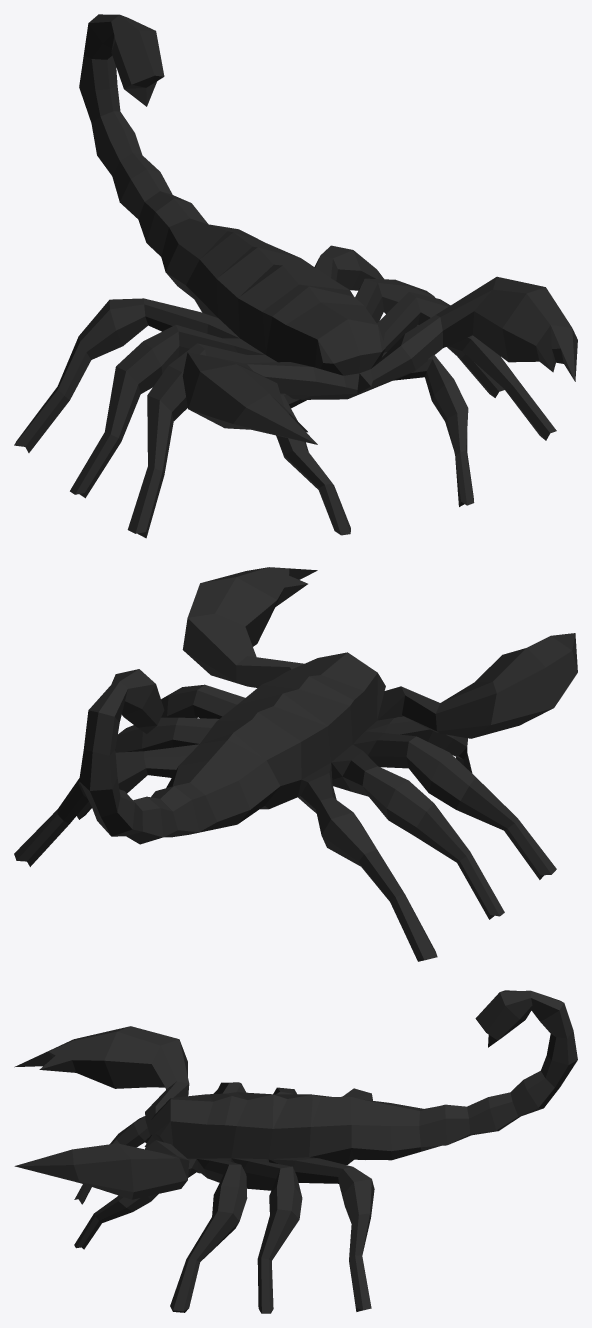
File: scorpion.glb
3 views of the same model, one above another, from view 1: azimuth 30°, elevation 25°; view 2: azimuth 150°, elevation 25°; view 3: azimuth 270°, elevation 25° (orthographic). The views are drawn at different scales.
Parts seen in each view (by area): view 1: scorpion; view 2: scorpion; view 3: scorpion.
Boxes of the visible parts, bbox=[...] form: scorpion: bbox=[14, 14, 577, 538]; scorpion: bbox=[14, 567, 577, 961]; scorpion: bbox=[14, 990, 577, 1313].
Size of the model in its own units: 0.2544 by 0.1751 by 0.3656.
Materials: 1 (1 with a texture image).
